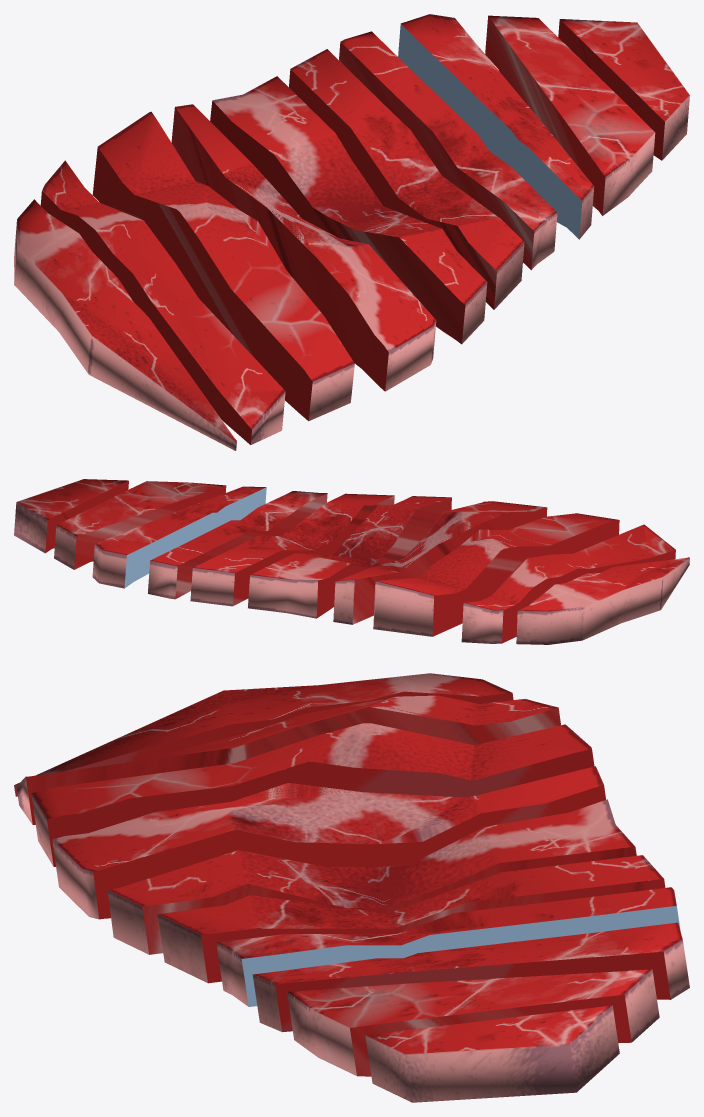
Rendered from carne cortada.fbx.
3 renders of one model, top to bottom at view 1: azimuth 30°, elevation 25°; view 2: azimuth 150°, elevation 25°; view 3: azimuth 270°, elevation 25°, orthographic. The views are drawn at different scales.
Visible parts, largest first — view 1: polySurface69; view 2: polySurface69; view 3: polySurface69.
Part boxes in pixels (bbox=[...]): polySurface69: bbox=[14, 14, 689, 450]; polySurface69: bbox=[14, 479, 689, 644]; polySurface69: bbox=[14, 673, 689, 1102].
Size of the model in its own units: 1.74 by 0.2871 by 1.25.
